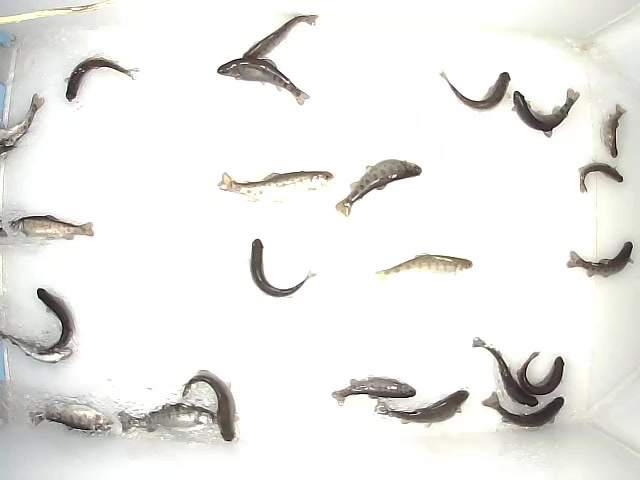fish: (334, 156, 422, 217), (215, 54, 312, 106), (471, 336, 541, 408), (248, 236, 318, 297), (113, 399, 218, 439), (217, 169, 334, 204), (182, 369, 238, 442), (237, 12, 320, 60), (374, 388, 471, 428), (510, 87, 581, 139), (63, 56, 139, 104), (437, 66, 511, 115), (28, 395, 114, 435), (31, 283, 75, 356), (330, 370, 417, 405), (6, 211, 95, 245), (565, 237, 635, 278), (375, 254, 473, 283), (1, 328, 72, 364), (516, 349, 565, 396), (578, 160, 626, 194), (599, 103, 626, 159)
